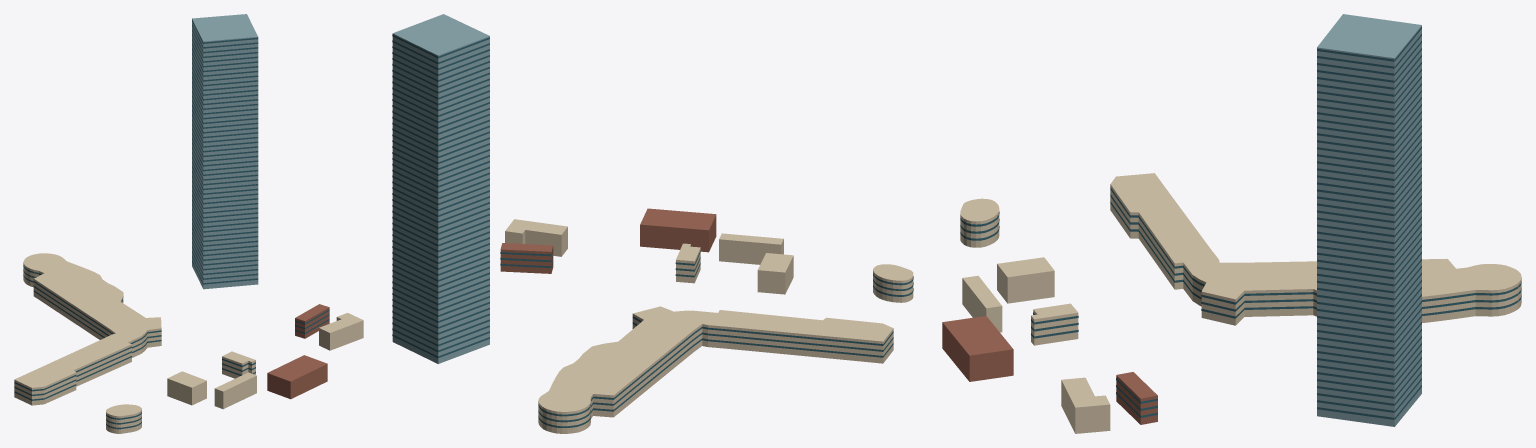
The model's file is city_5_-2.glb.
3 views of the same model, side by side, from view 1: azimuth 30°, elevation 25°; view 2: azimuth 150°, elevation 25°; view 3: azimuth 270°, elevation 25° (orthographic). The views are drawn at different scales.
Visible parts, largest first — view 1: city_5_-2; view 2: city_5_-2; view 3: city_5_-2.
Part boxes in pixels (<box>): city_5_-2: <box>14,14,363,433</box>; city_5_-2: <box>392,14,913,433</box>; city_5_-2: <box>942,14,1521,433</box>.
Size of the model in its own units: 286 by 210 by 299.
